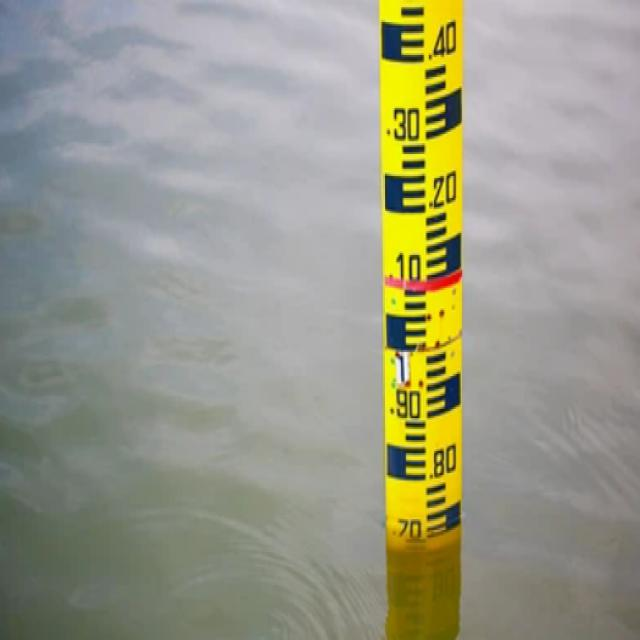ruler: (372, 3, 479, 564)
value: (384, 246, 429, 292), (380, 100, 427, 144), (425, 15, 463, 65), (425, 166, 463, 212), (425, 440, 462, 483), (387, 388, 427, 421), (394, 348, 411, 387)
